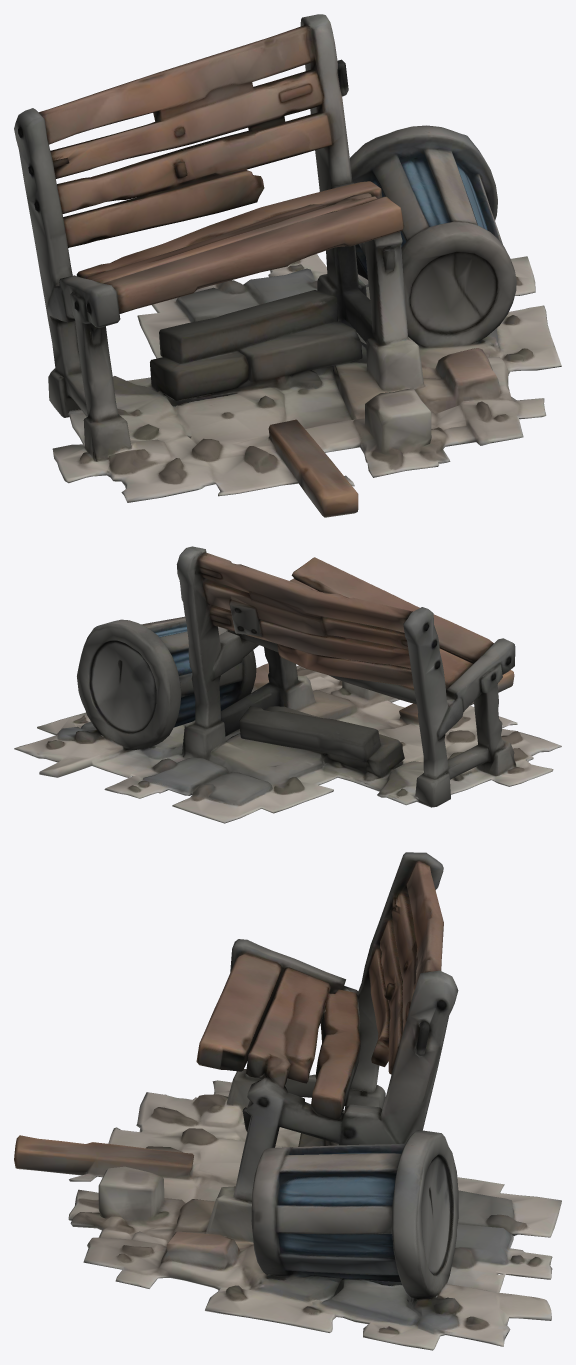
Rendered from SM_Prop_BrokenBench_01.fbx.
3 renders of one model, top to bottom at view 1: azimuth 30°, elevation 25°; view 2: azimuth 150°, elevation 25°; view 3: azimuth 270°, elevation 25°, orthographic. The views are drawn at different scales.
Visible parts, largest first — view 1: SM_Prop_BrokenBench_01; view 2: SM_Prop_BrokenBench_01; view 3: SM_Prop_BrokenBench_01.
Part boxes in pixels (x1,y1,x2,y2): SM_Prop_BrokenBench_01: (14, 14, 561, 517); SM_Prop_BrokenBench_01: (14, 546, 561, 823); SM_Prop_BrokenBench_01: (14, 852, 561, 1350).
Bounding box in the file's own units: 1 × 0.4961 × 0.8625.
1 material, 1 textured.
